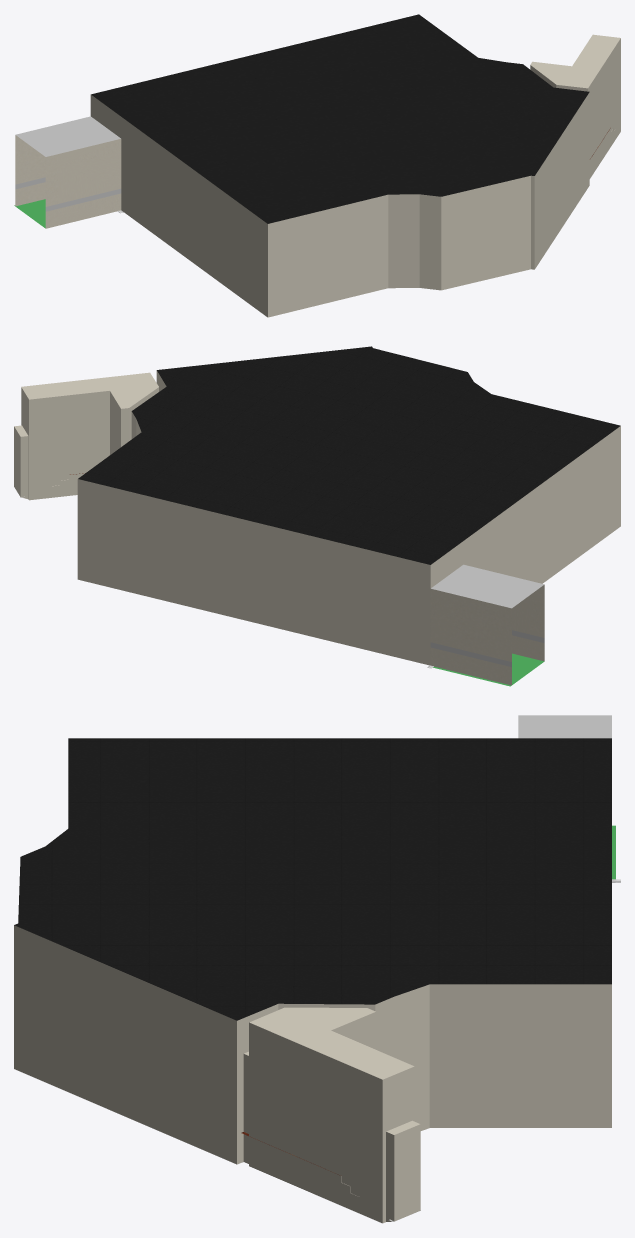
Rendered from AAM room.fbx.
3 renders of one model, top to bottom at view 1: azimuth 30°, elevation 25°; view 2: azimuth 150°, elevation 25°; view 3: azimuth 270°, elevation 25°, orthographic. The views are drawn at different scales.
Parts seen in each view (by area): view 1: NonBaked.002; view 2: NonBaked.002; view 3: NonBaked.002.
Boxes of the visible parts, x1,y1,x2,y2 form: NonBaked.002: (14, 14, 620, 317); NonBaked.002: (14, 346, 620, 686); NonBaked.002: (14, 715, 620, 1223).
Bounding box in the file's own units: 1479 × 248 × 947.
